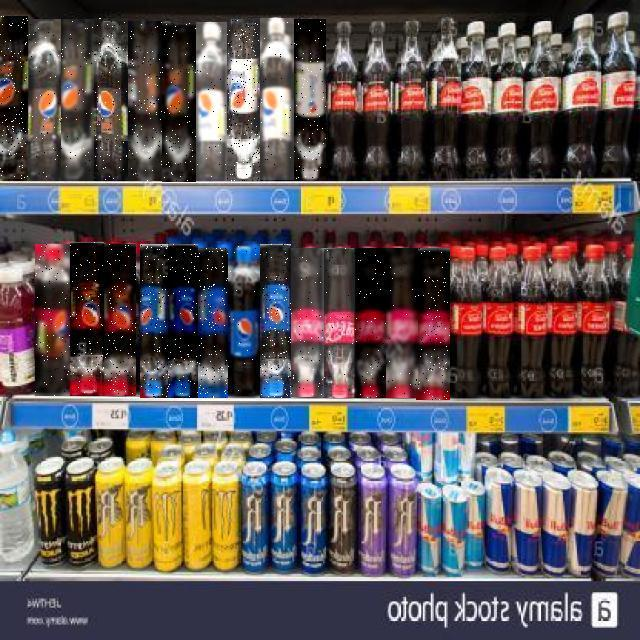Drinks: (260, 18, 294, 180), (226, 19, 260, 181), (94, 18, 128, 180), (62, 19, 96, 181), (27, 19, 61, 181), (35, 244, 71, 396), (129, 21, 163, 181), (162, 23, 196, 182), (70, 242, 104, 396), (294, 19, 326, 181), (102, 244, 136, 396), (416, 248, 450, 400), (385, 248, 418, 398), (322, 248, 355, 398), (196, 22, 227, 181), (228, 244, 260, 398), (291, 248, 324, 397), (354, 248, 386, 398), (260, 244, 291, 398), (168, 244, 198, 398), (1, 16, 29, 179), (198, 248, 228, 398), (140, 244, 168, 398)
